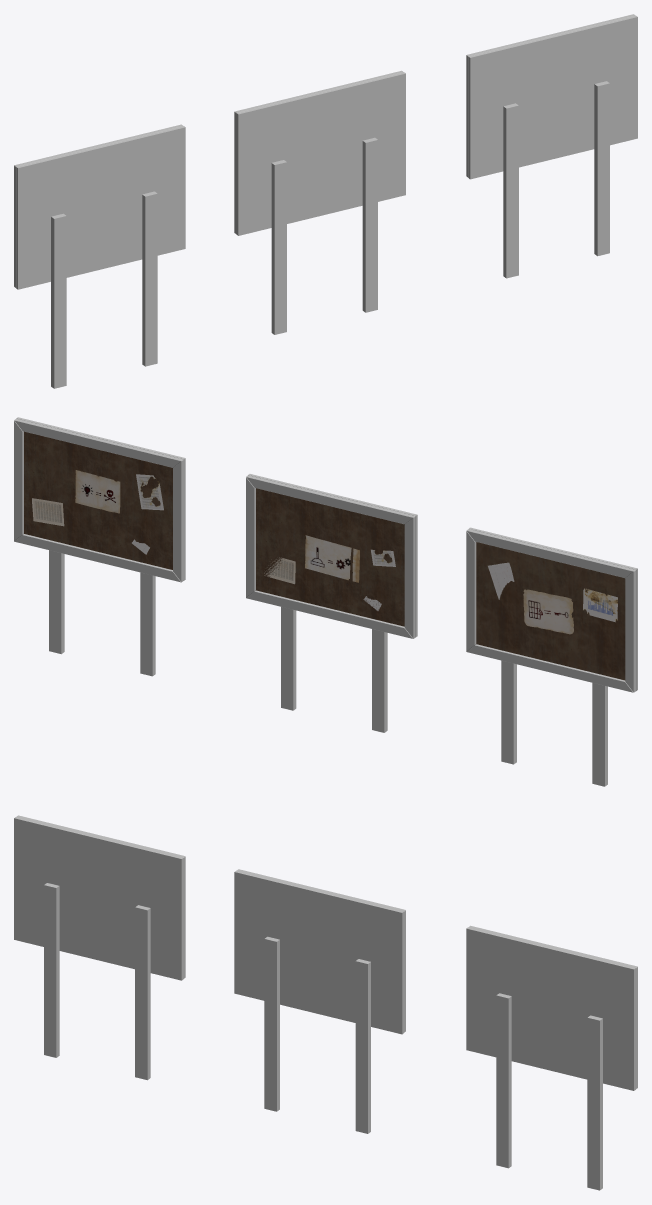
The model's file is notice boards.obj.
3 renders of one model, top to bottom at view 1: azimuth 30°, elevation 25°; view 2: azimuth 150°, elevation 25°; view 3: azimuth 330°, elevation 25°, orthographic.
Visible parts, largest first — view 1: Cube.004, Cube.021, papers_albedo.006; view 2: Cube.004, Cube.021, papers_albedo.006; view 3: Cube.021, Cube.004, papers_albedo.006.
Boxes of the visible parts, left/top/right/bottom form: Cube.004: left=14, top=124, right=185, bottom=388; Cube.021: left=234, top=70, right=405, bottom=334; papers_albedo.006: left=466, top=14, right=637, bottom=278; Cube.004: left=466, top=527, right=637, bottom=786; Cube.021: left=246, top=474, right=417, bottom=732; papers_albedo.006: left=14, top=417, right=185, bottom=676; Cube.021: left=234, top=869, right=405, bottom=1133; Cube.004: left=14, top=815, right=185, bottom=1080; papers_albedo.006: left=466, top=925, right=637, bottom=1190.
Size of the model in its own units: 5.92 by 2.07 by 0.1193.
